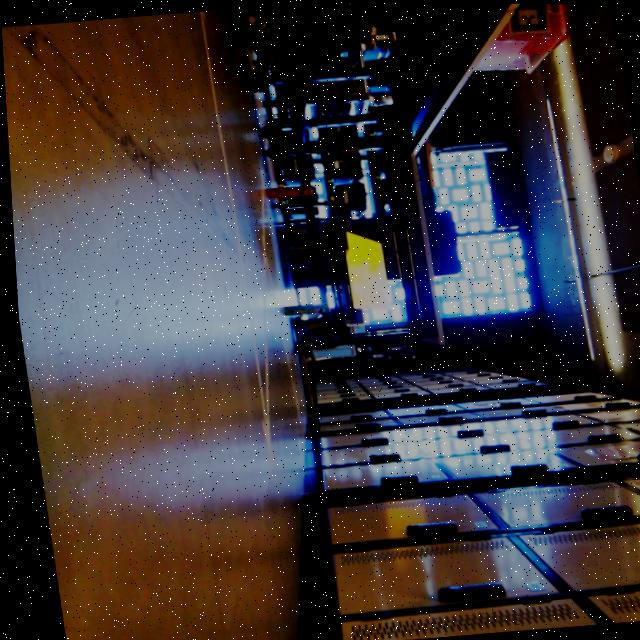greenpringles: (275, 296, 330, 324)
redpringles: (259, 176, 318, 212)
